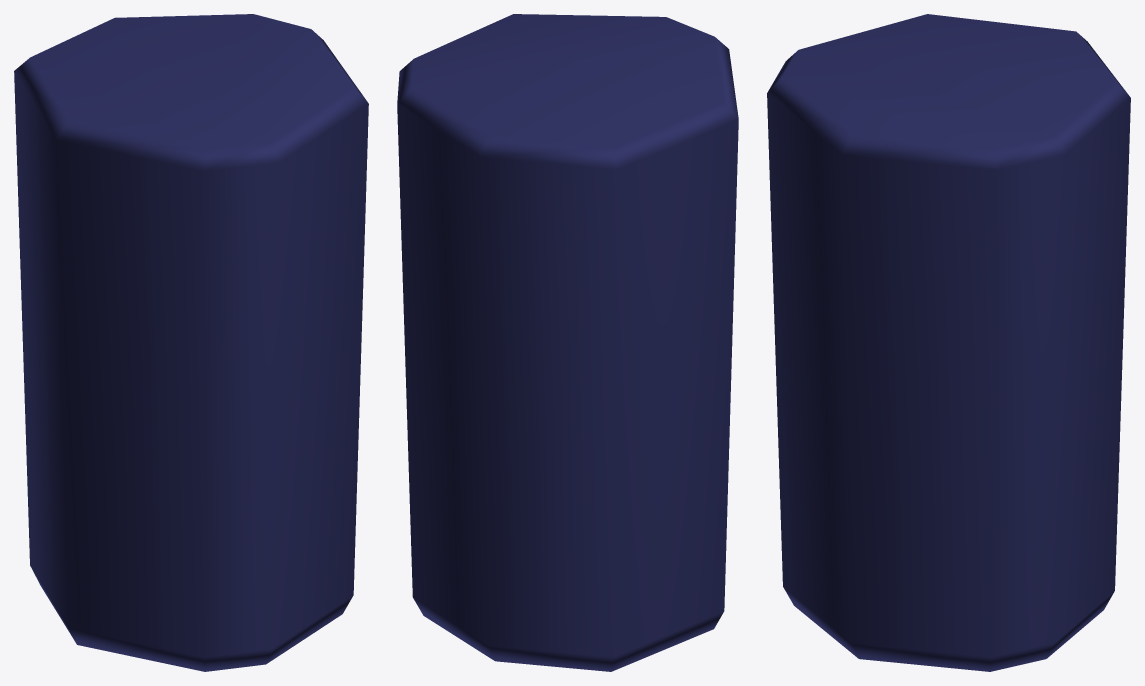
Rendered from platform2.fbx.
The picture shows the model from 3 angles, left to right: view 1: azimuth 30°, elevation 25°; view 2: azimuth 150°, elevation 25°; view 3: azimuth 270°, elevation 25°; orthographic projection.
Parts seen in each view (by area): view 1: platform2; view 2: platform2; view 3: platform2.
Boxes of the visible parts, box(x1,y1,x2,y2) form: platform2: box(14, 14, 368, 671); platform2: box(397, 14, 738, 671); platform2: box(767, 14, 1130, 671).
Size of the model in its own units: 240 by 400 by 250.
